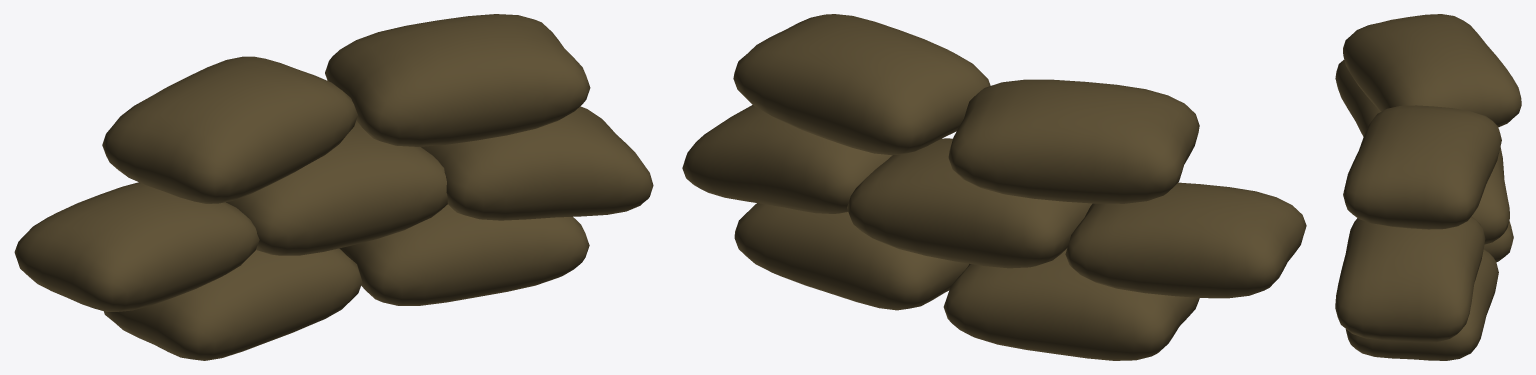
The picture shows the model from 3 angles, left to right: view 1: azimuth 30°, elevation 25°; view 2: azimuth 150°, elevation 25°; view 3: azimuth 270°, elevation 25°; orthographic projection. The views are drawn at different scales.
Visible parts, largest first — view 1: SackTrench_Small.010_Cube.115; view 2: SackTrench_Small.010_Cube.115; view 3: SackTrench_Small.010_Cube.115.
Boxes of the visible parts, x1,y1,x2,y2 form: SackTrench_Small.010_Cube.115: (14,14,653,360); SackTrench_Small.010_Cube.115: (682,14,1306,360); SackTrench_Small.010_Cube.115: (1335,14,1521,360).
Size of the model in its own units: 278 by 112 by 89.67.
